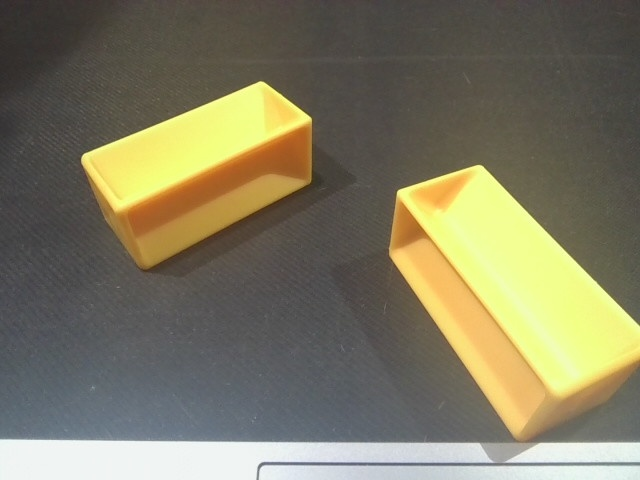YellowSample: (385, 161, 640, 442), (76, 78, 319, 277)
